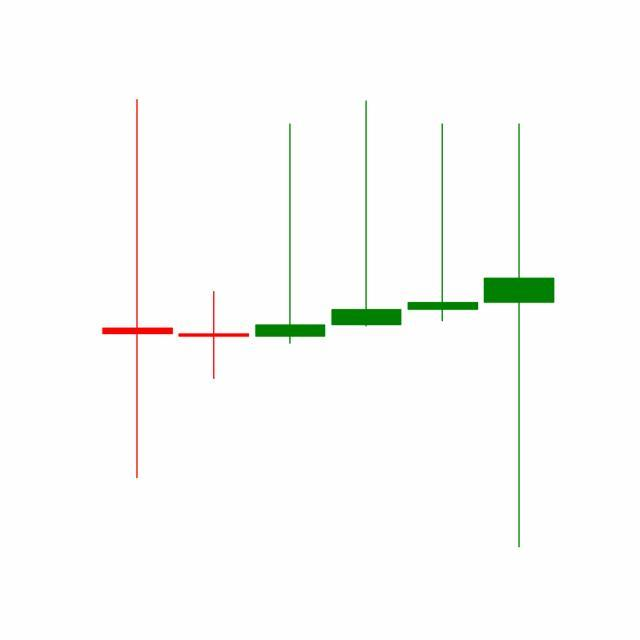Gravestone Doji: (404, 122, 482, 325)
